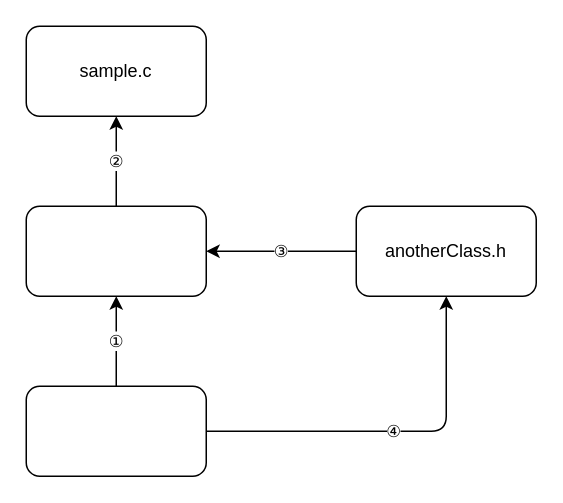
Image size: 563x503. Some labels were removed from this diagram. The box of each missing label's shape, as (x1, y1, x2, y2) in pixels:
sample.h: (25, 385, 206, 476)
sampleClass.h: (25, 205, 206, 296)
